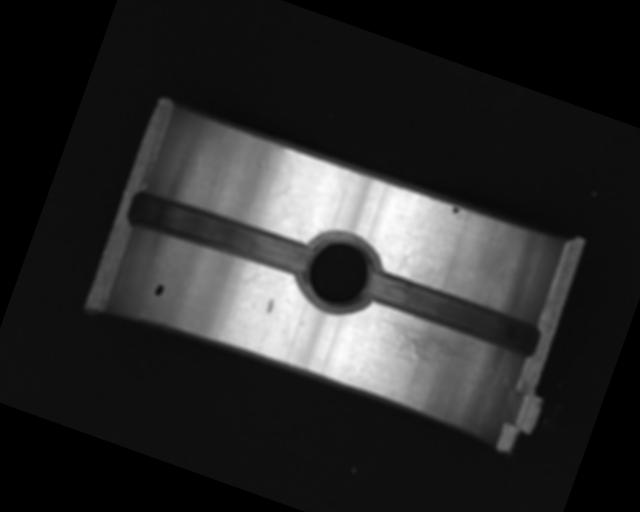blot: (153, 281, 166, 298), (450, 204, 462, 217)
bruise: (263, 296, 276, 315)
gap: (123, 183, 316, 286), (361, 265, 544, 361)
hole: (289, 221, 387, 325)
scratch: (365, 307, 484, 380)
